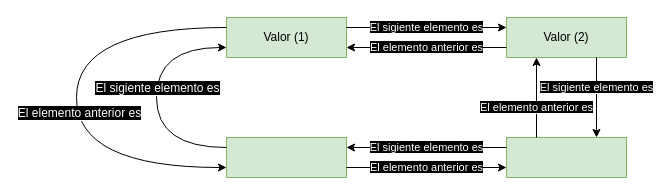
Some shapes in this 670 by 195 pixel diagram are drawn without their labels. The centre of each missing label's shape, as x and y in pixels:
Valor (3): point 566,157
Valor (4): point 286,157
